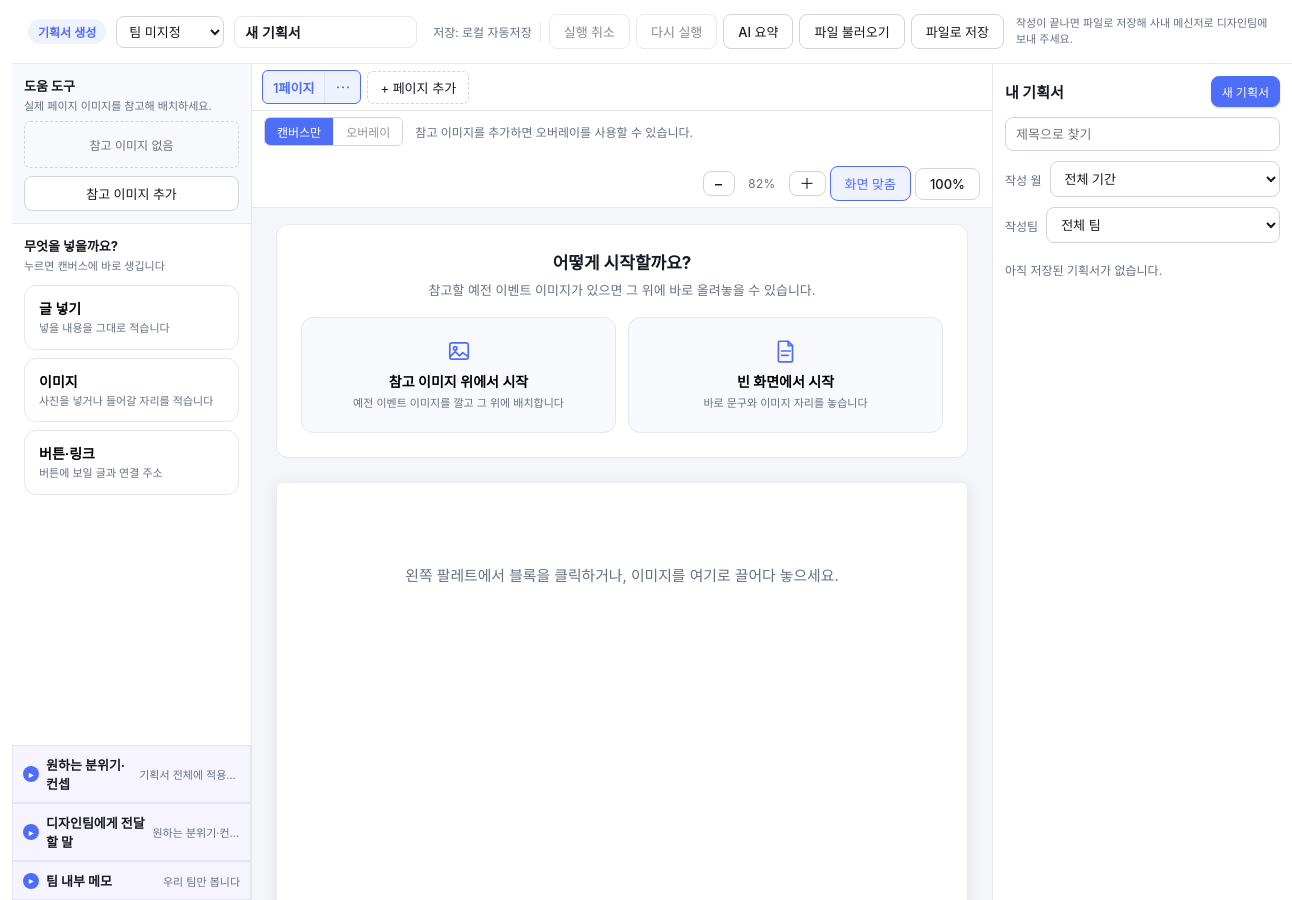
it: multi-page editor › renames a page through its menu
This screenshot has width=1292, height=900.
Click the button named "1페이지 페이지 메뉴" at (342, 87), box [324,71,360,103]
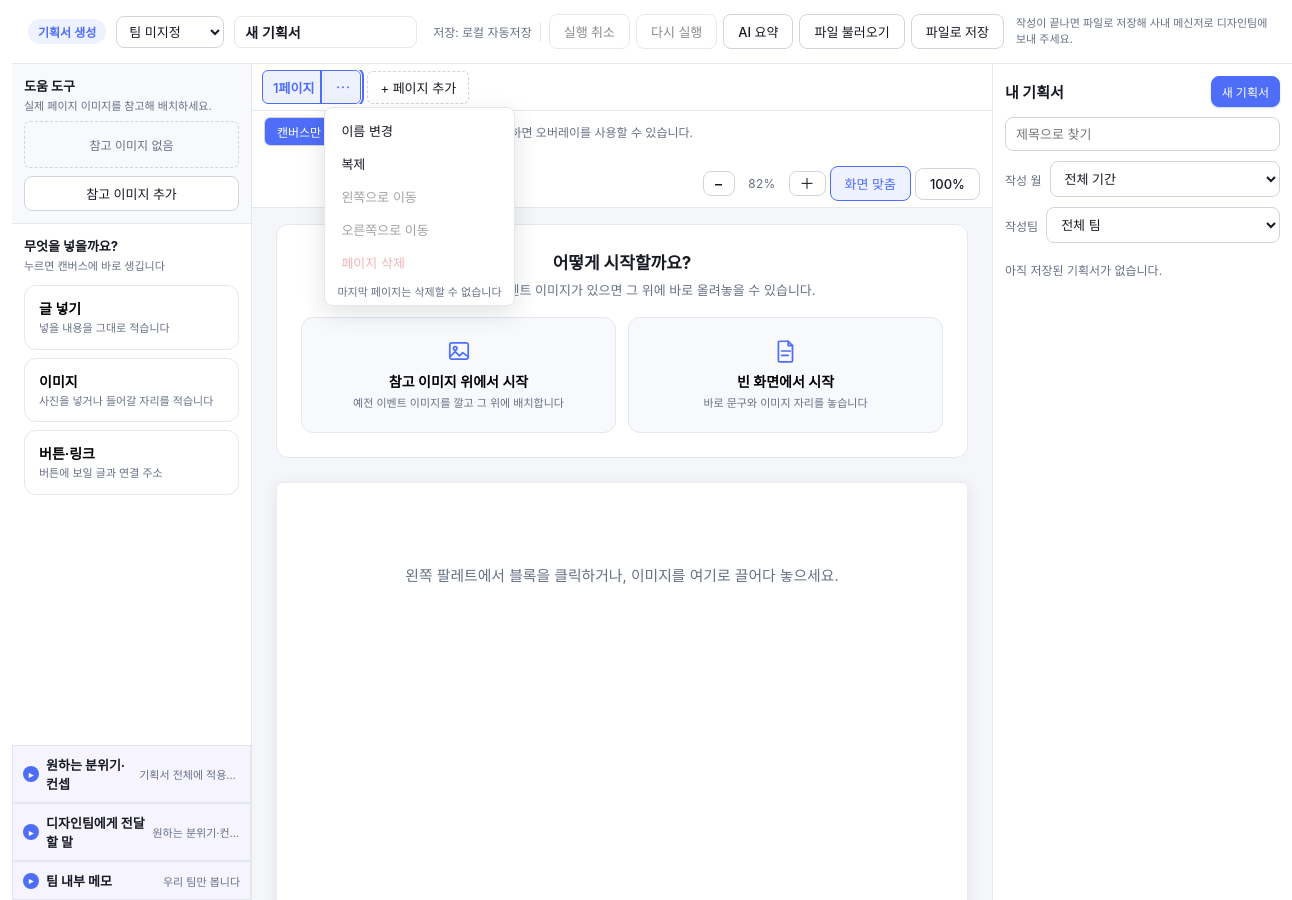
Click the button "이름 변경" at (420, 130), box [331,114,508,147]
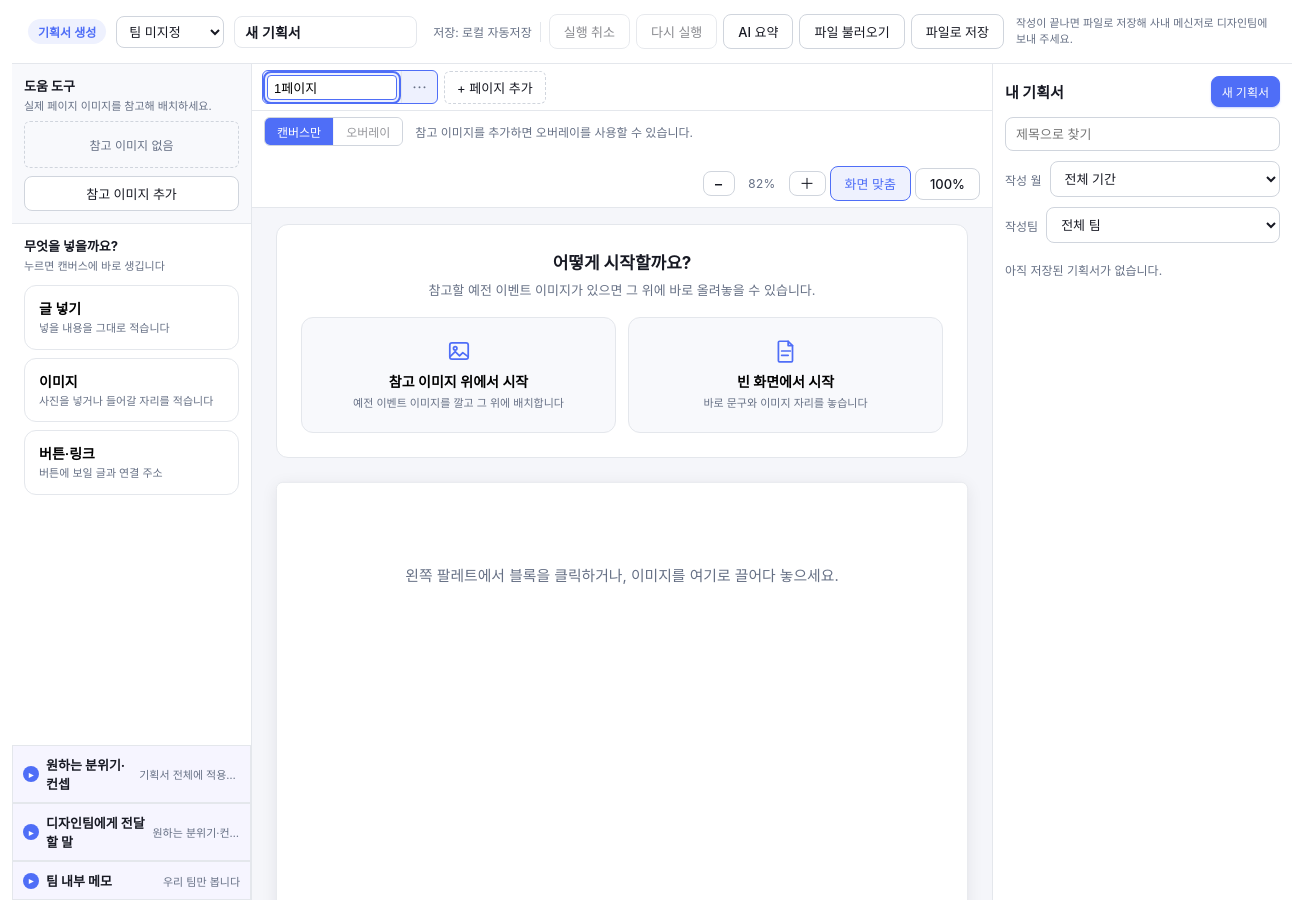
Replace the text in the field named "페이지 이름" with "표지" at (332, 87), box [267,74,397,100]
Then press Enter
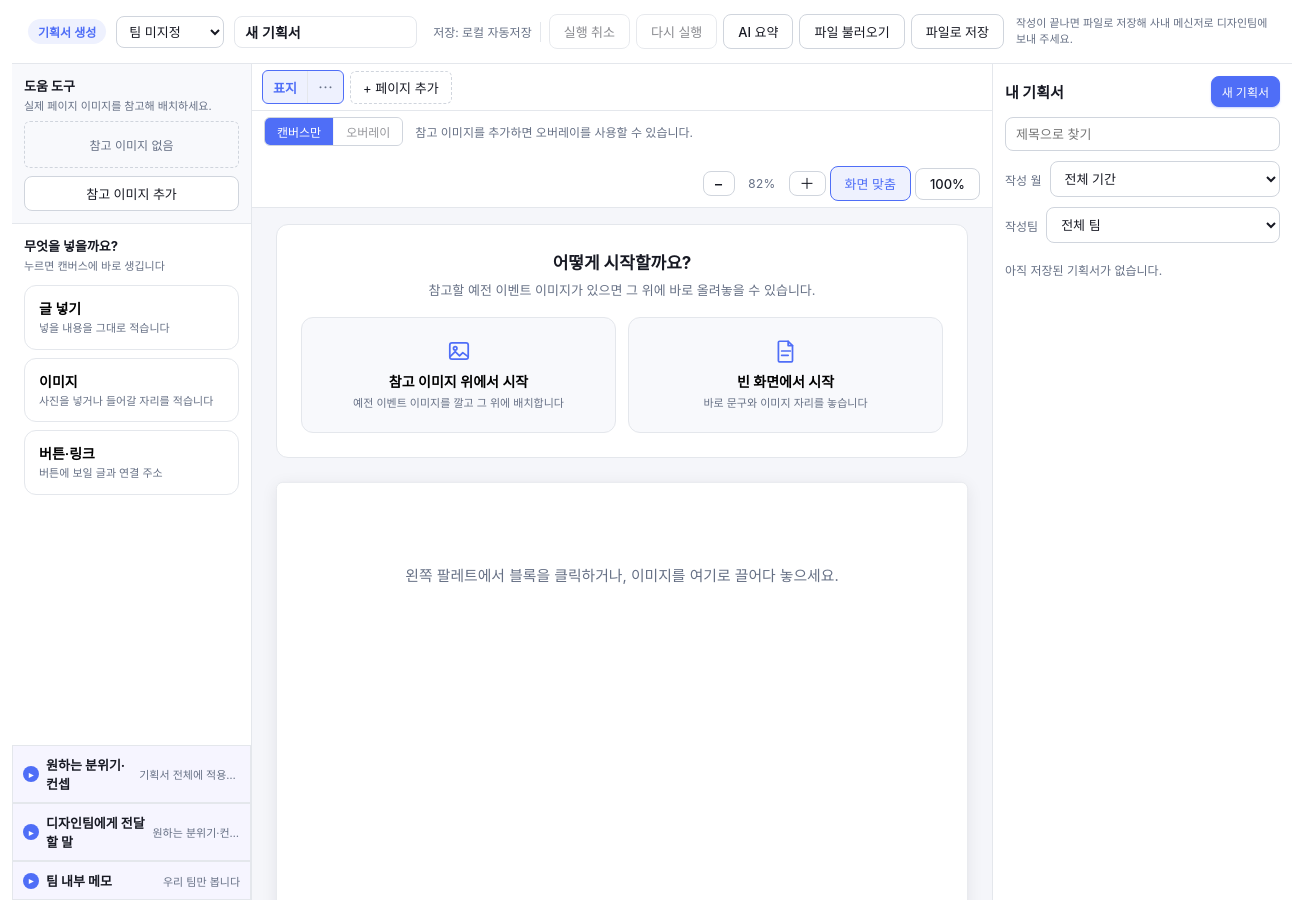
Check: the button "표지" is shown, box [263,72,307,102]
